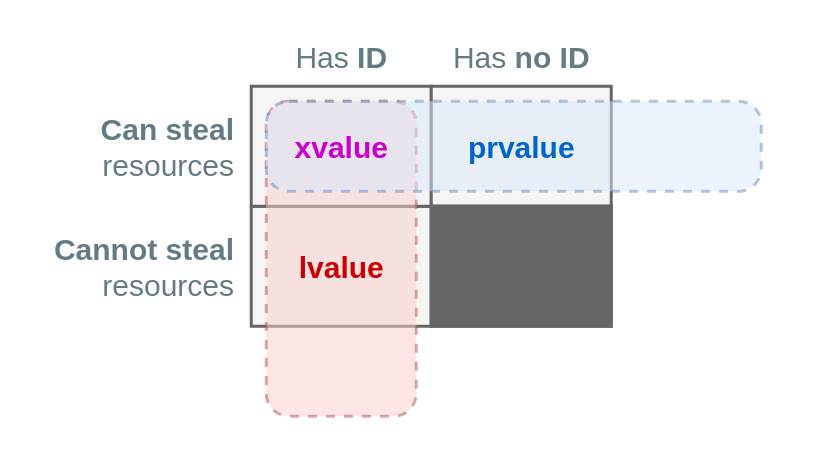
Some shapes in this 816 by 471 pixel diagram are drawn without their labels. The centre of each missing label's shape, as x and y in pixels:
glvalue: the point at 340,258
rvalue: the point at 513,145
